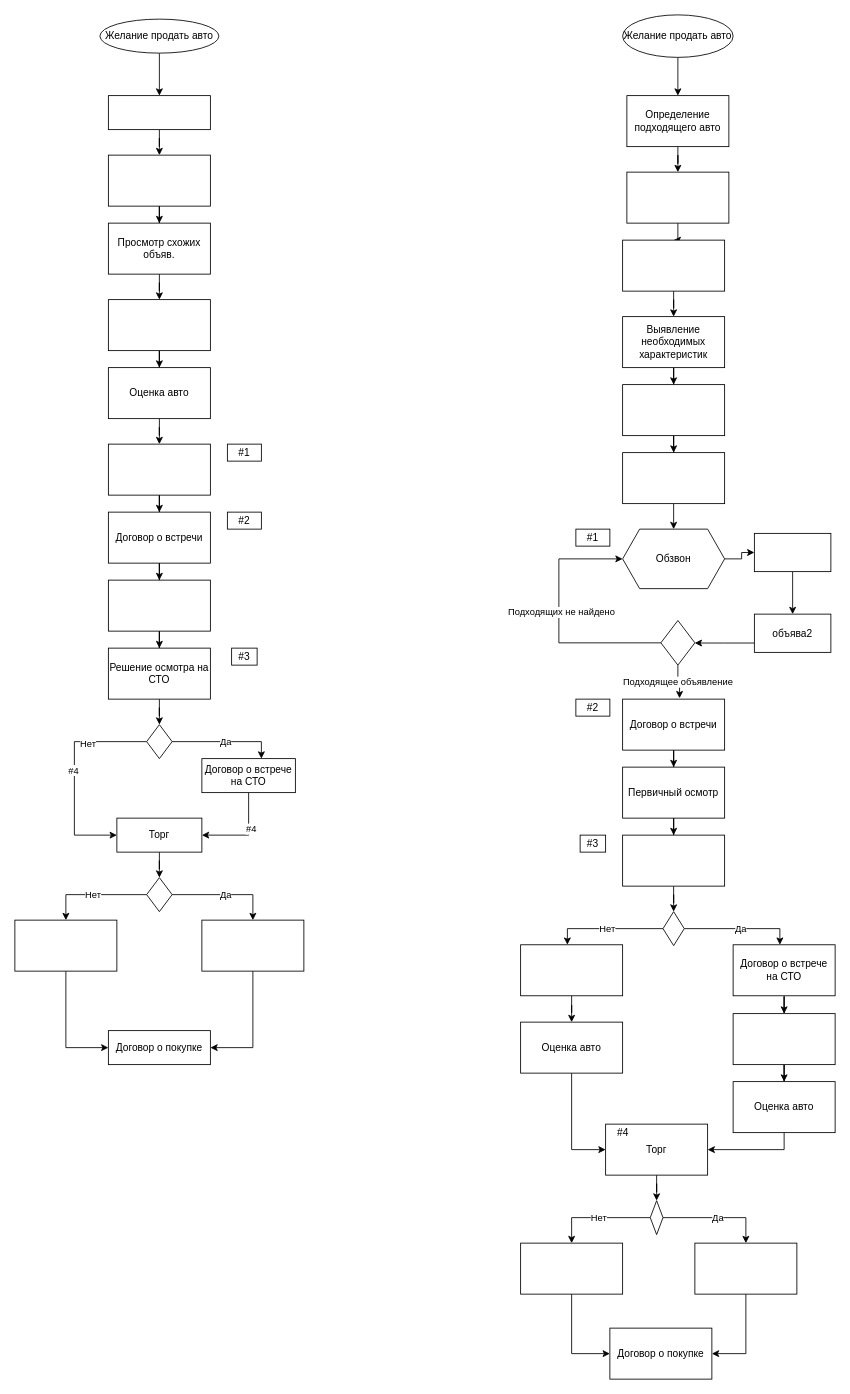
Image size: 850x1394. Some labels were removed from this diagram. Each missing label, with the centre of its shape:
"Встреча и показ авто" belongs at (x=159, y=605).
"Вторичный осмотр" belongs at (x=783, y=1039).
"Выбор нескольких подходящих объяв" belongs at (x=673, y=478).
"Выявление подходящего кузова" belongs at (x=673, y=265).
"Договор о вторичном осмотре" belongs at (x=673, y=860).
"Знакомство с марками" belongs at (x=677, y=197).
"Исследование рынка" belongs at (x=159, y=180).
"объява1" belongs at (x=792, y=552).
"Подача объяв." belongs at (x=159, y=469).
"Подготовка фото и описание авто" belongs at (x=159, y=112).
"Принятие решения на основе первичного осмотра" belongs at (x=571, y=970).
"Просмотр объяв" belongs at (x=673, y=410).
"Сравнение авто" belongs at (x=159, y=325).
